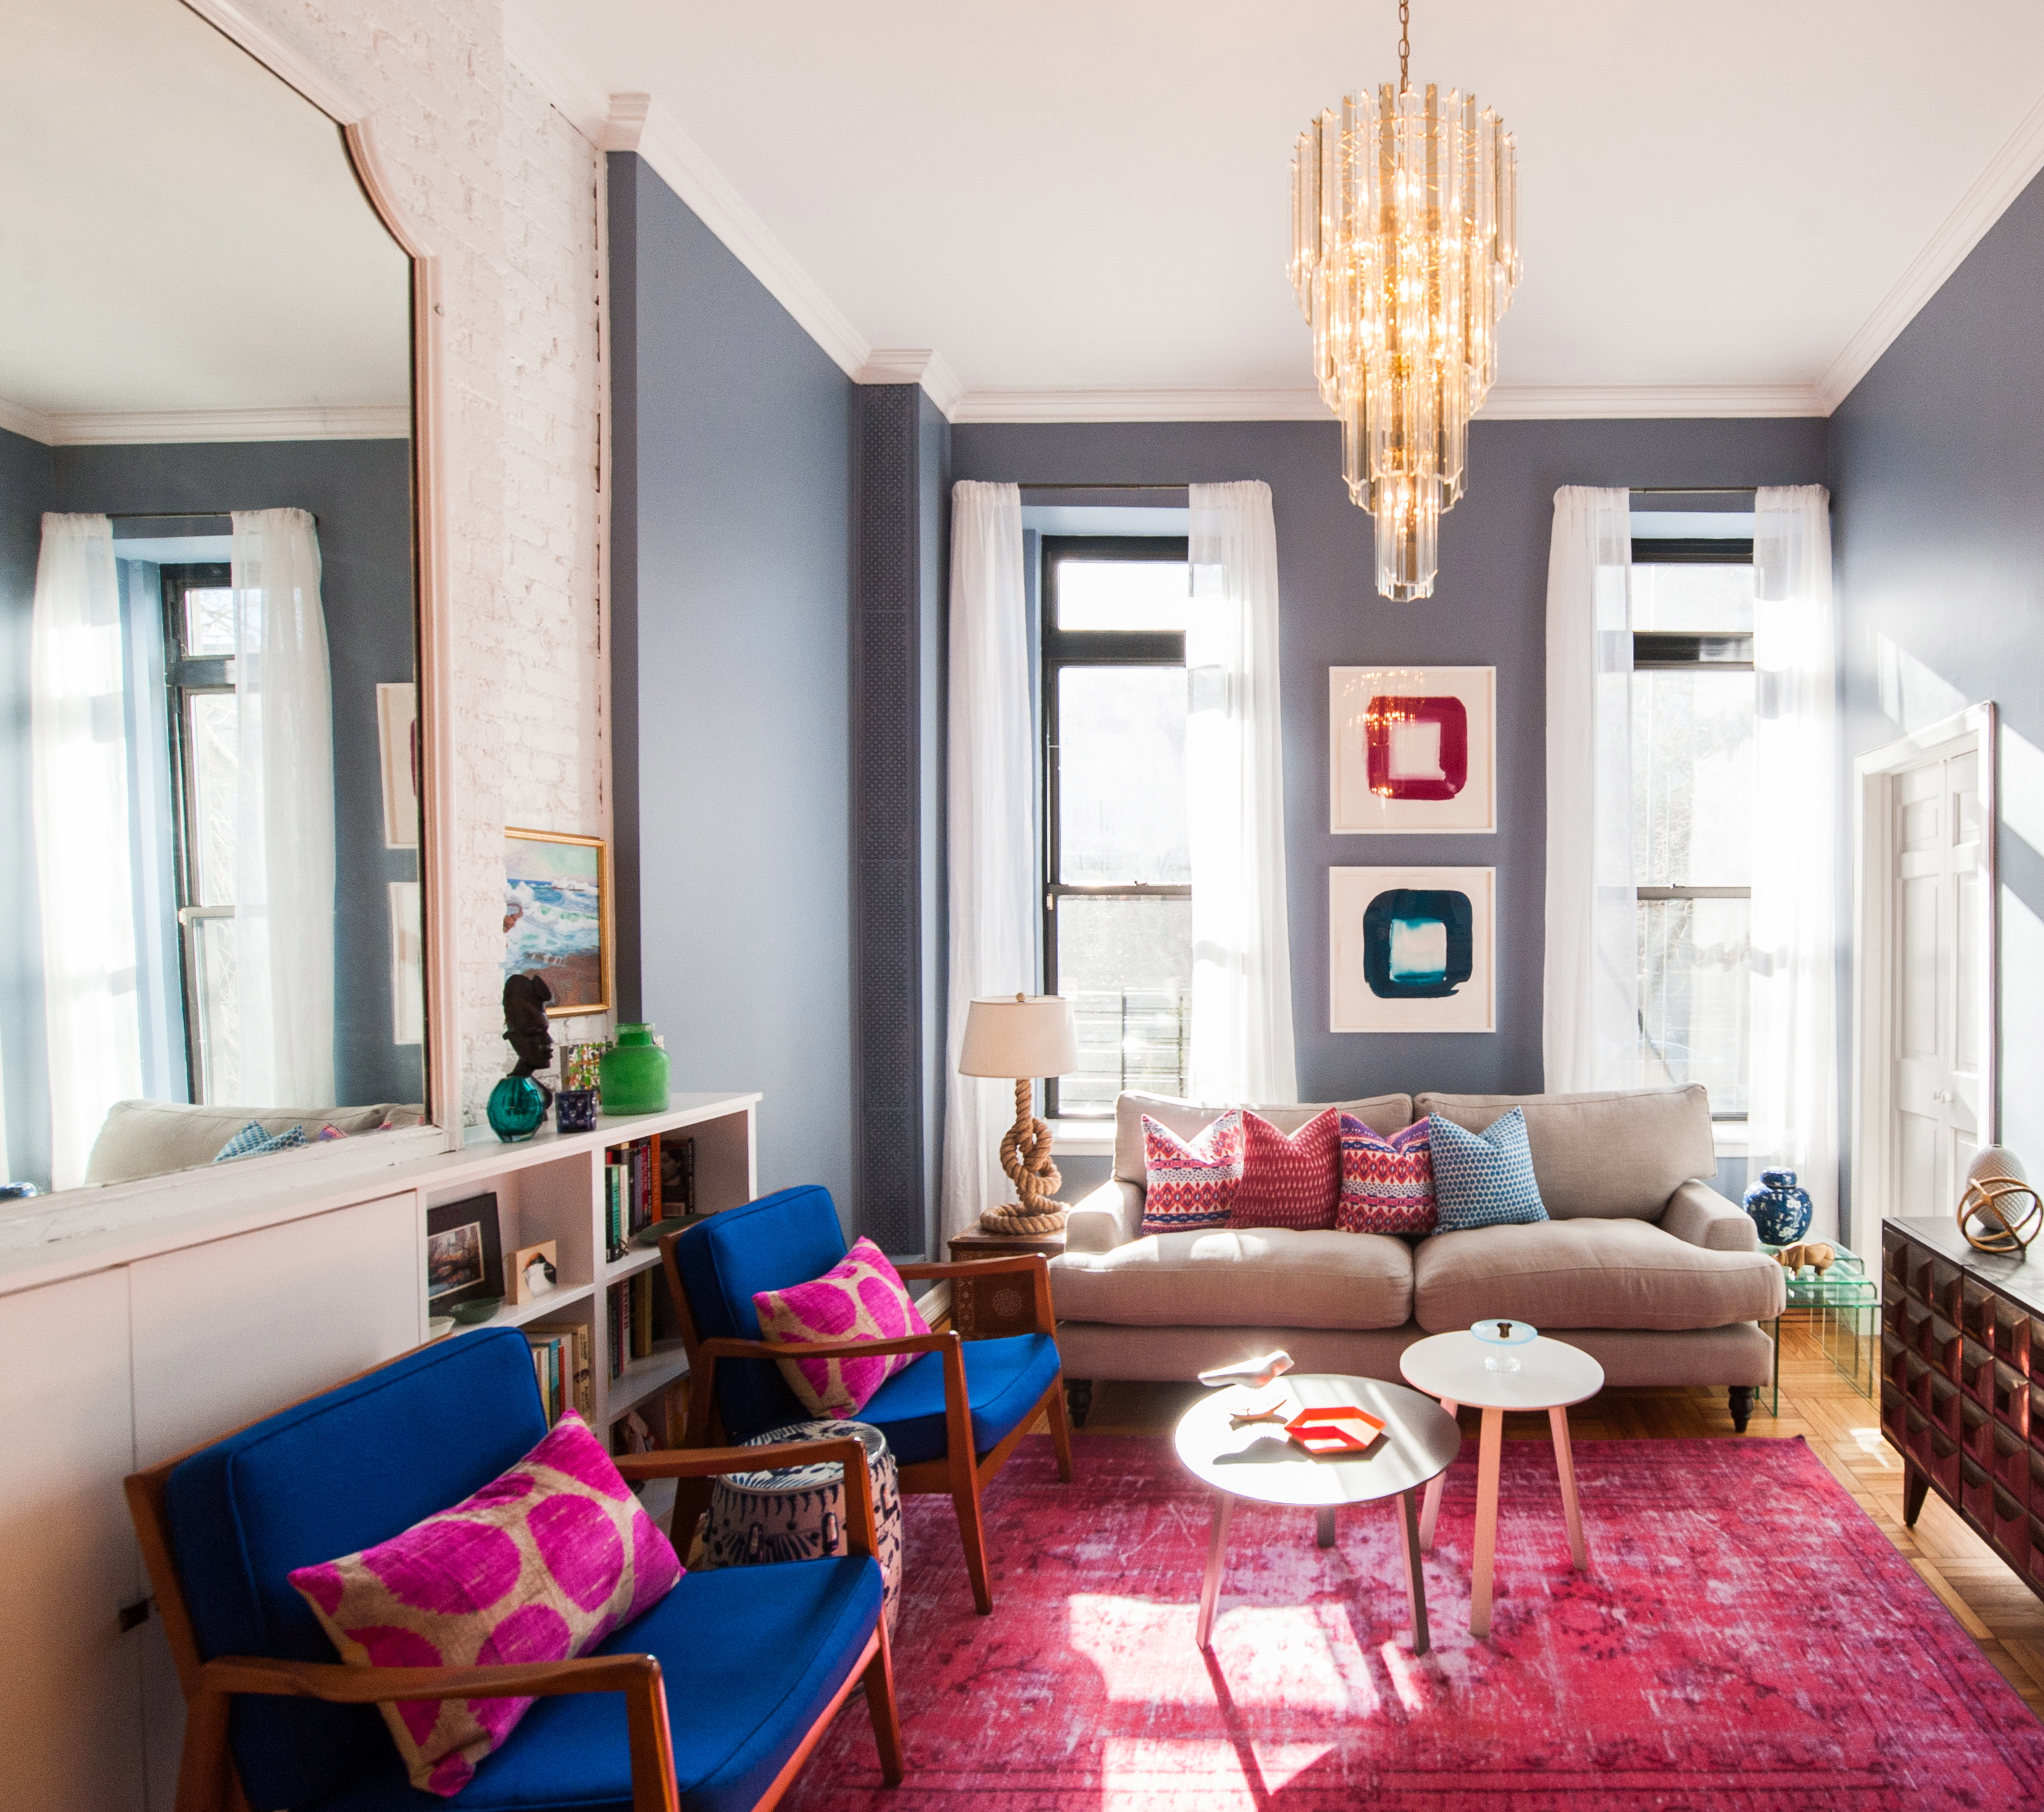biru: (184, 1336, 857, 1789), (691, 1188, 1046, 1443), (481, 1079, 544, 1142)
hijau: (600, 1023, 668, 1114)
putih: (1400, 1328, 1606, 1408), (959, 1006, 1076, 1074)
